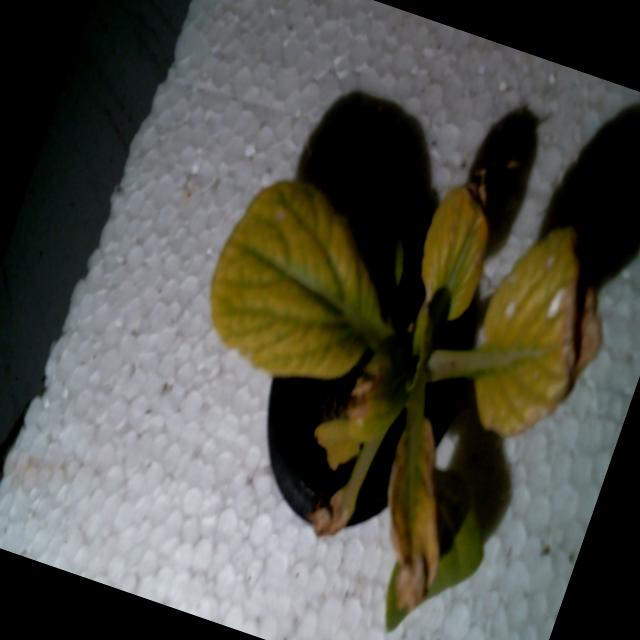pakcoy_tidak_sehat: (101, 55, 640, 640)
